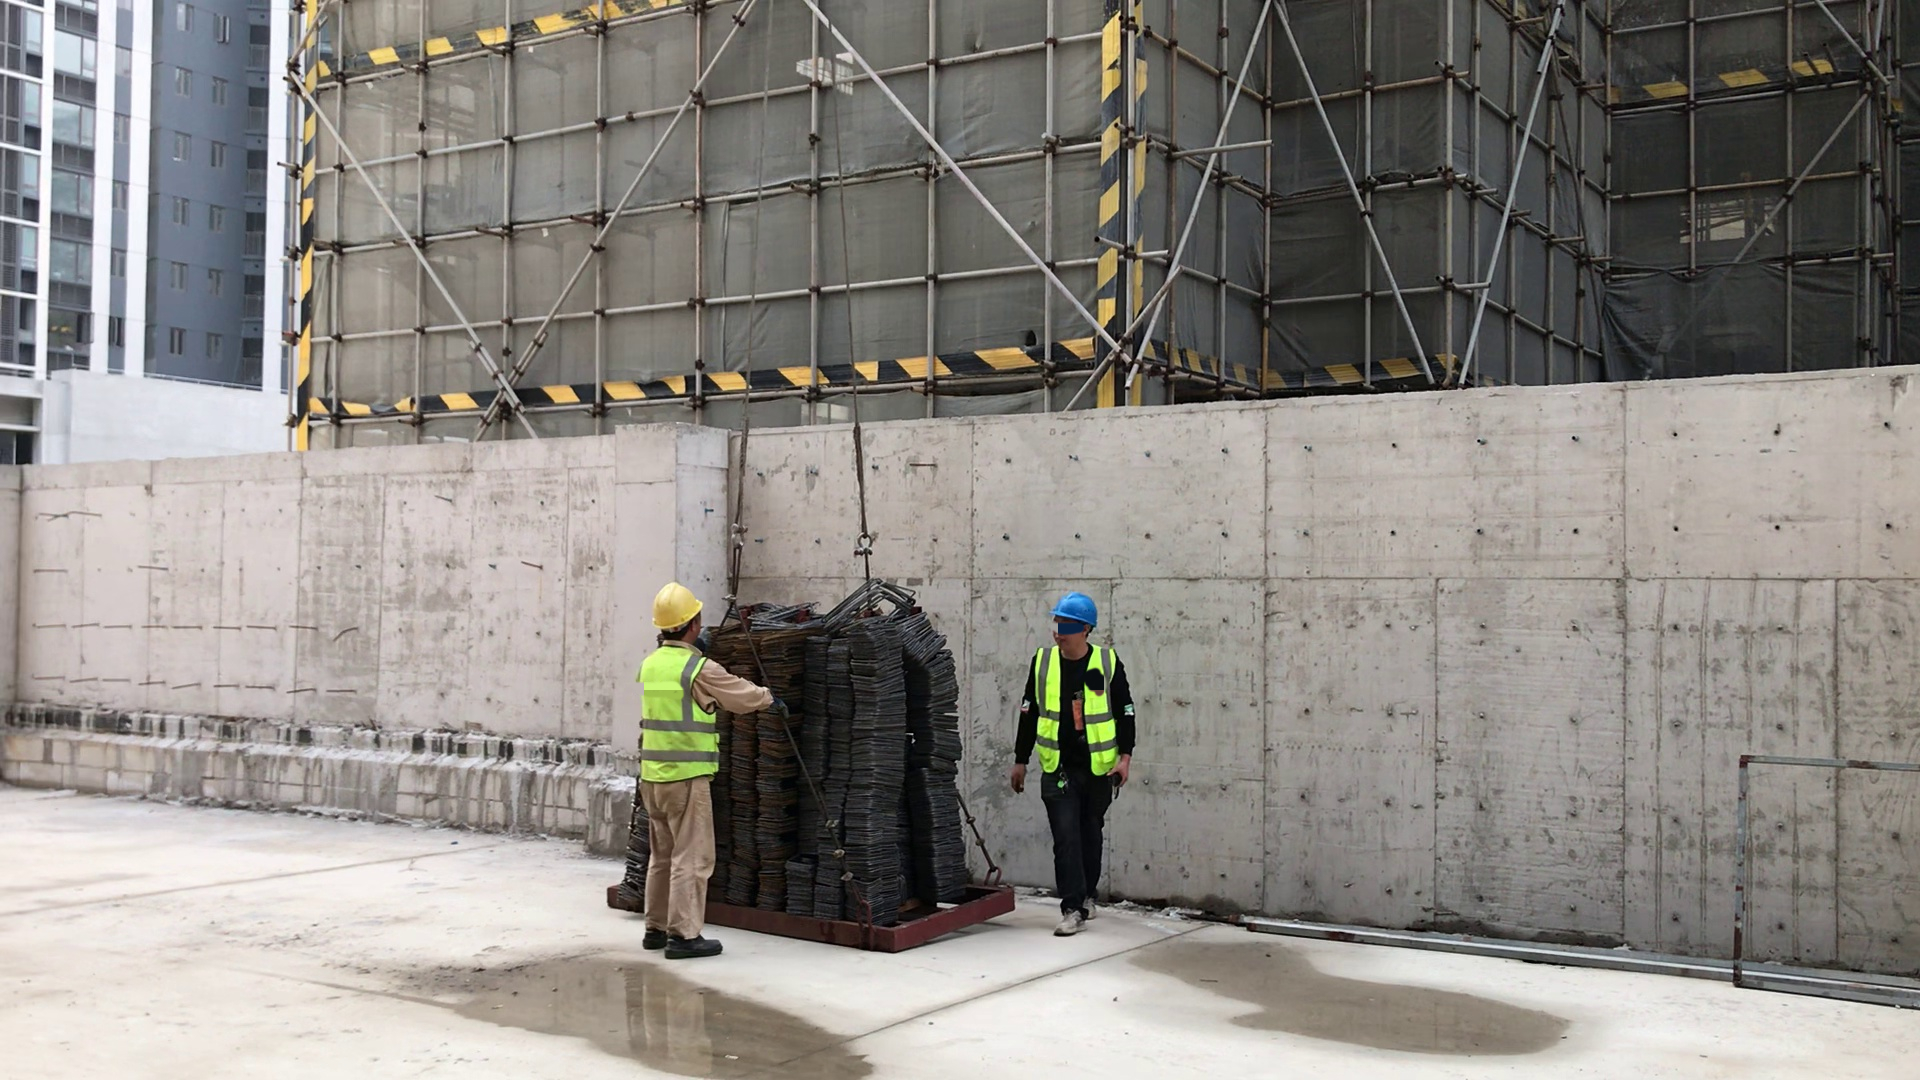helmet: (1040, 580, 1133, 636), (644, 577, 708, 629)
person: (1017, 585, 1177, 961), (623, 570, 762, 977)
vest: (1024, 643, 1131, 775), (629, 651, 727, 780)
